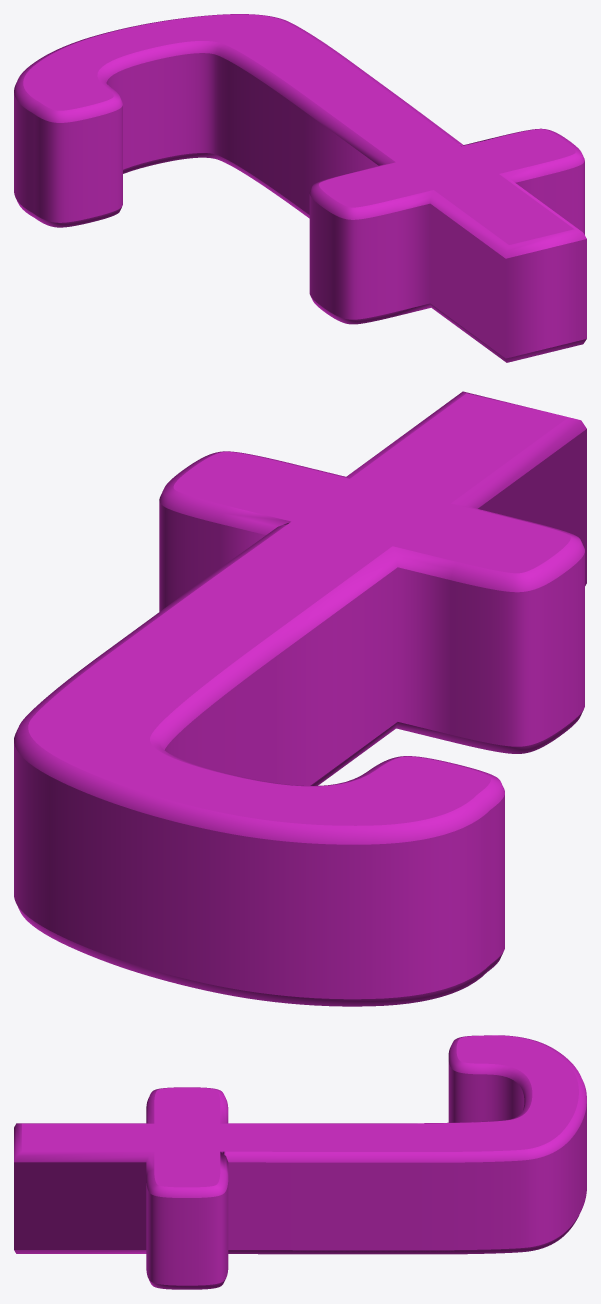
File: Letter_t_CoolFont.fbx
3 renders of one model, top to bottom at view 1: azimuth 30°, elevation 25°; view 2: azimuth 150°, elevation 25°; view 3: azimuth 270°, elevation 25°, orthographic. The views are drawn at different scales.
Visible parts, largest first — view 1: Letter_t; view 2: Letter_t; view 3: Letter_t.
Part boxes in pixels (<box>): Letter_t: <box>14,14,586,362</box>; Letter_t: <box>14,391,586,1006</box>; Letter_t: <box>14,1035,586,1289</box>.
Bounding box in the file's own units: 0.4666 × 0.14 × 0.7119.
